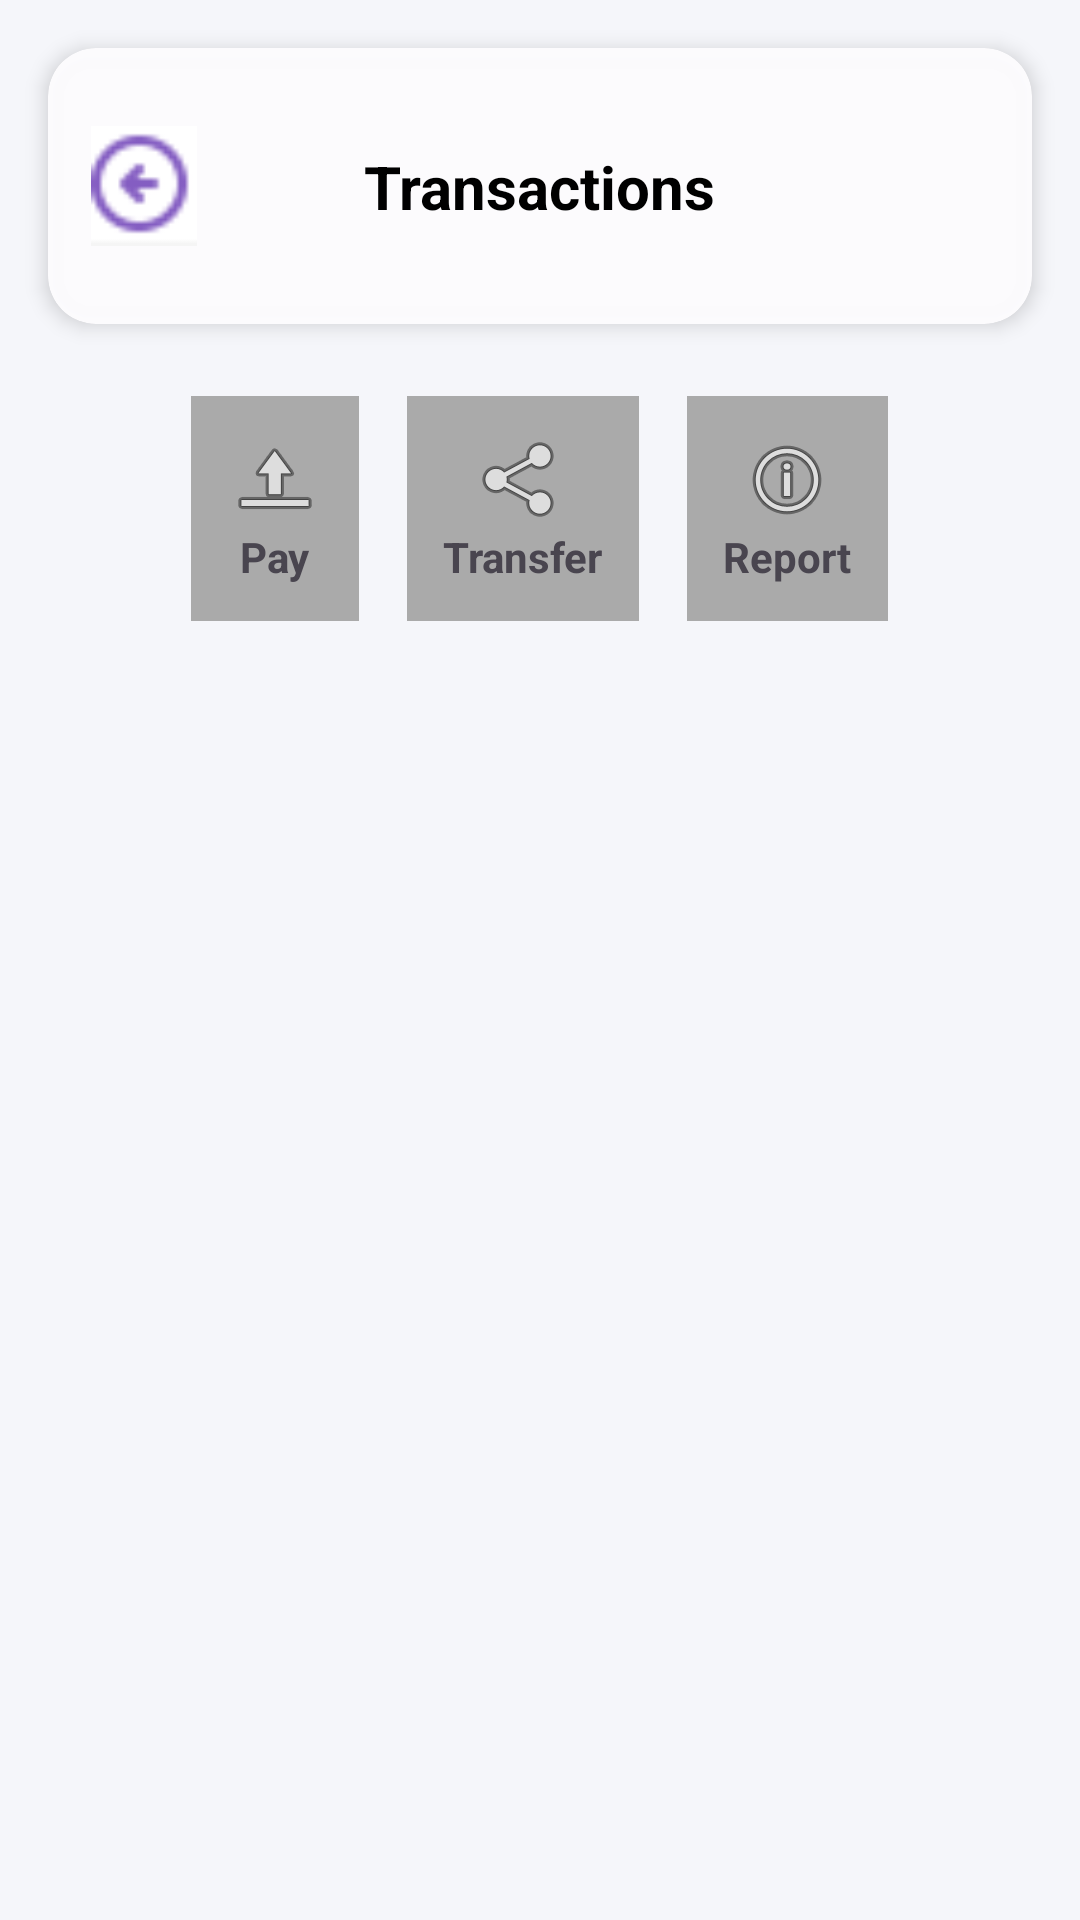

Icon click points for this 1080 x 1920 phone screenshot, format (x,y):
Back: (140,183)
info details: (787,480)
share: (518,479)
upload: (275,478)
